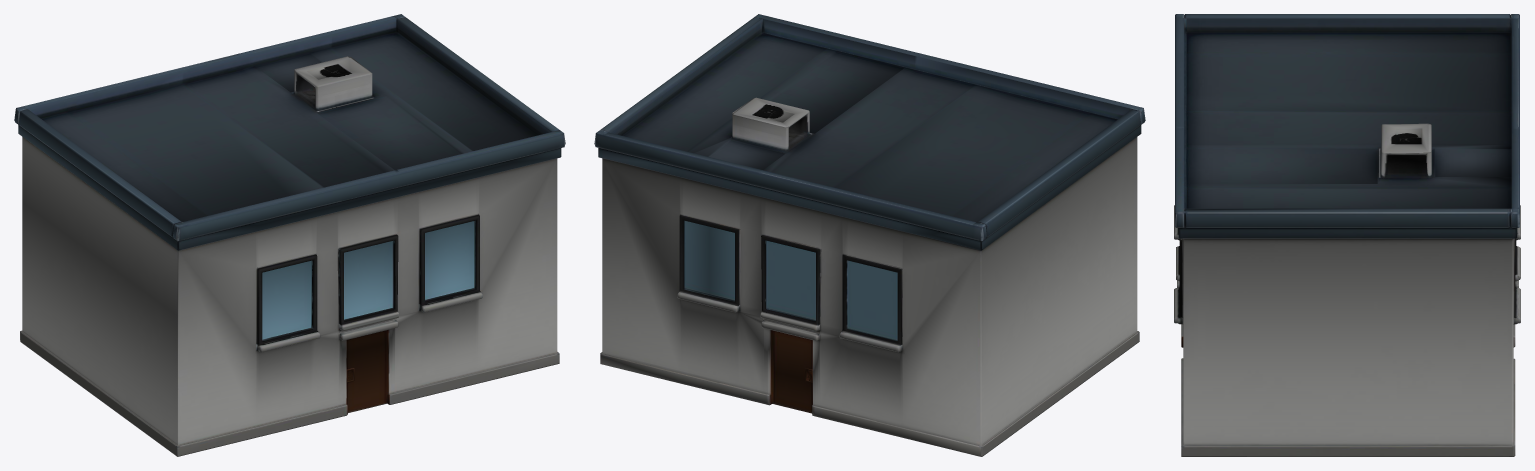
File: small-office-tripo-original.glb
3 renders of one model, left to right at view 1: azimuth 30°, elevation 25°; view 2: azimuth 150°, elevation 25°; view 3: azimuth 270°, elevation 25°, orthographic. The views are drawn at different scales.
Visible parts, largest first — view 1: tripo_node_b1feb03a-e73c-41f9-9d87-c700355b9088; view 2: tripo_node_b1feb03a-e73c-41f9-9d87-c700355b9088; view 3: tripo_node_b1feb03a-e73c-41f9-9d87-c700355b9088.
Boxes of the visible parts, x1,y1,x2,y2 form: tripo_node_b1feb03a-e73c-41f9-9d87-c700355b9088: [14, 14, 565, 456]; tripo_node_b1feb03a-e73c-41f9-9d87-c700355b9088: [594, 14, 1145, 456]; tripo_node_b1feb03a-e73c-41f9-9d87-c700355b9088: [1174, 14, 1520, 456].
Size of the model in its own units: 1 by 0.5969 by 0.7299.
Materials: 1 (1 with a texture image).
